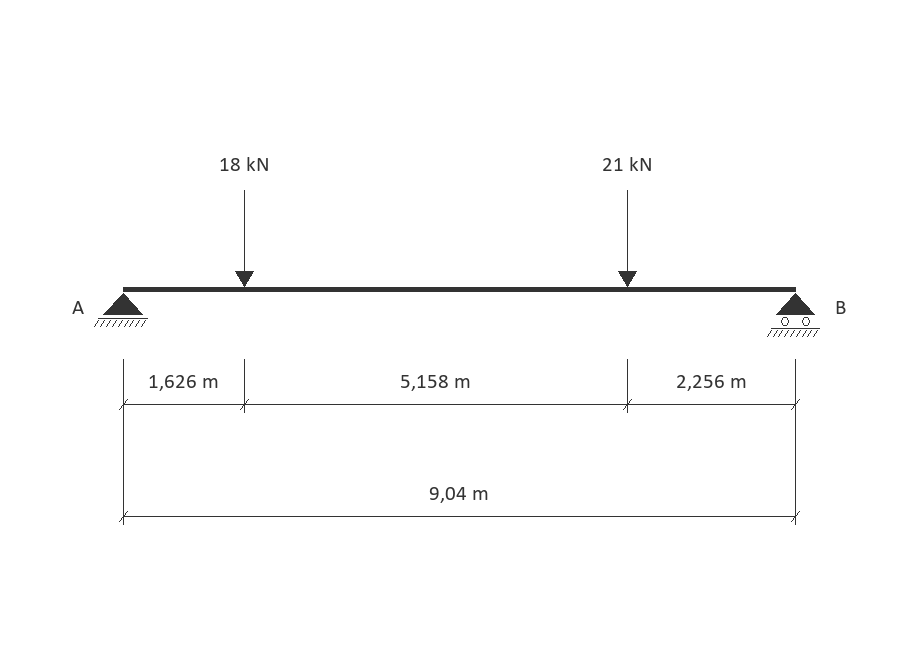pin_support: (94, 293, 148, 327)
point_load: (235, 190, 254, 287), (618, 190, 637, 287)
roller_support: (767, 293, 820, 337)
